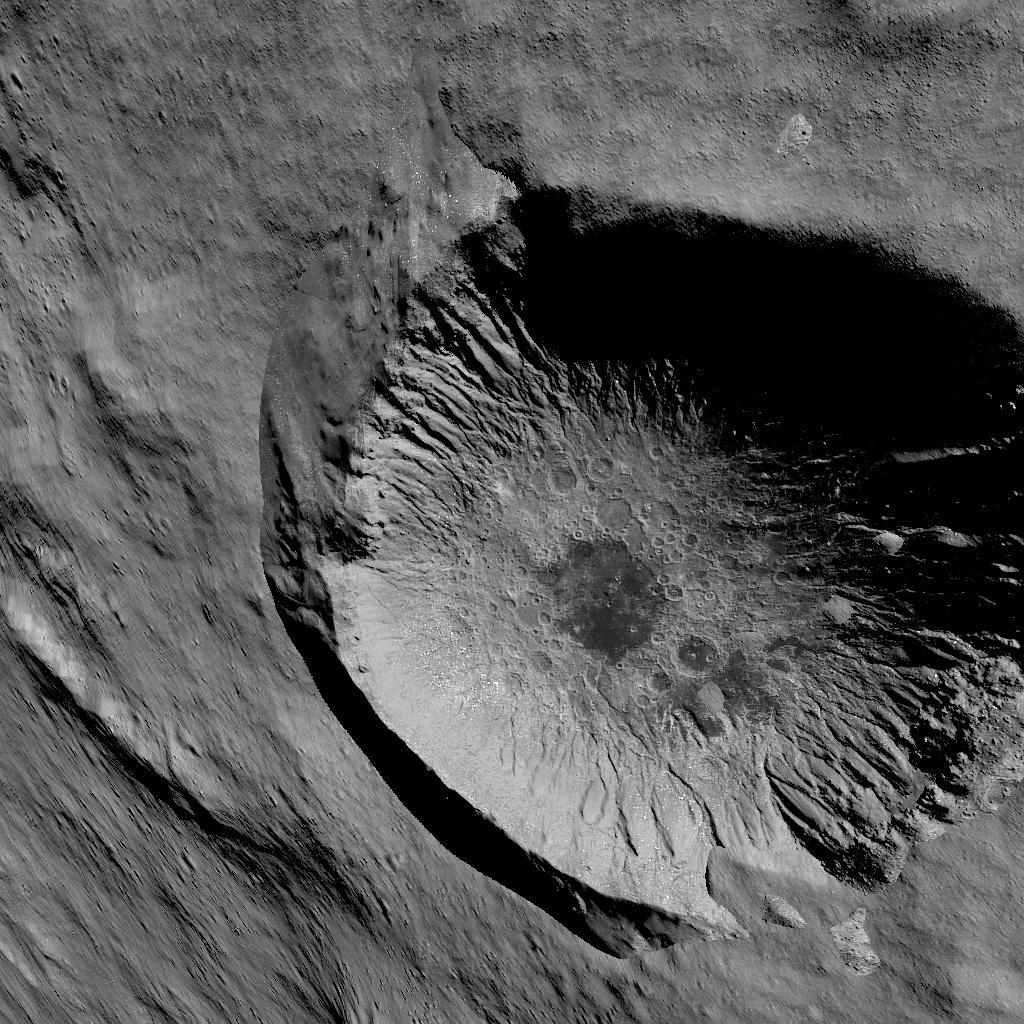Crater: (251, 148, 1024, 962)
Plan surface: (31, 0, 232, 625), (247, 4, 1024, 122)
